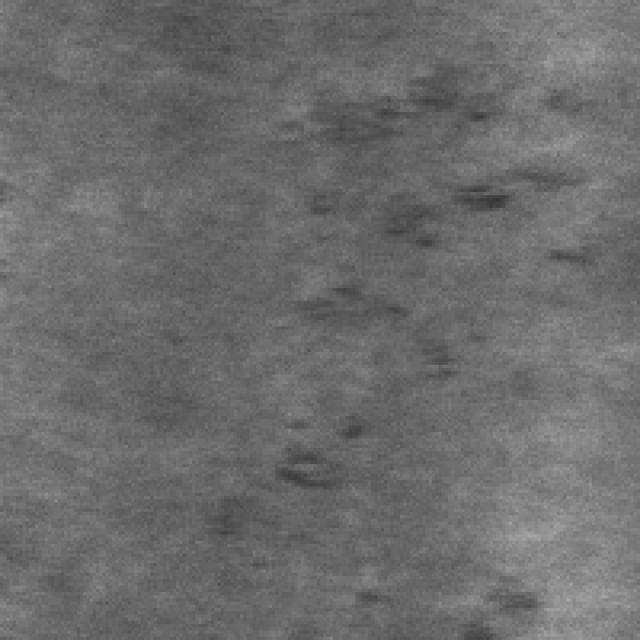rolled-in_scale: (269, 275, 461, 490), (316, 140, 602, 282), (292, 45, 534, 131), (458, 570, 547, 636)
